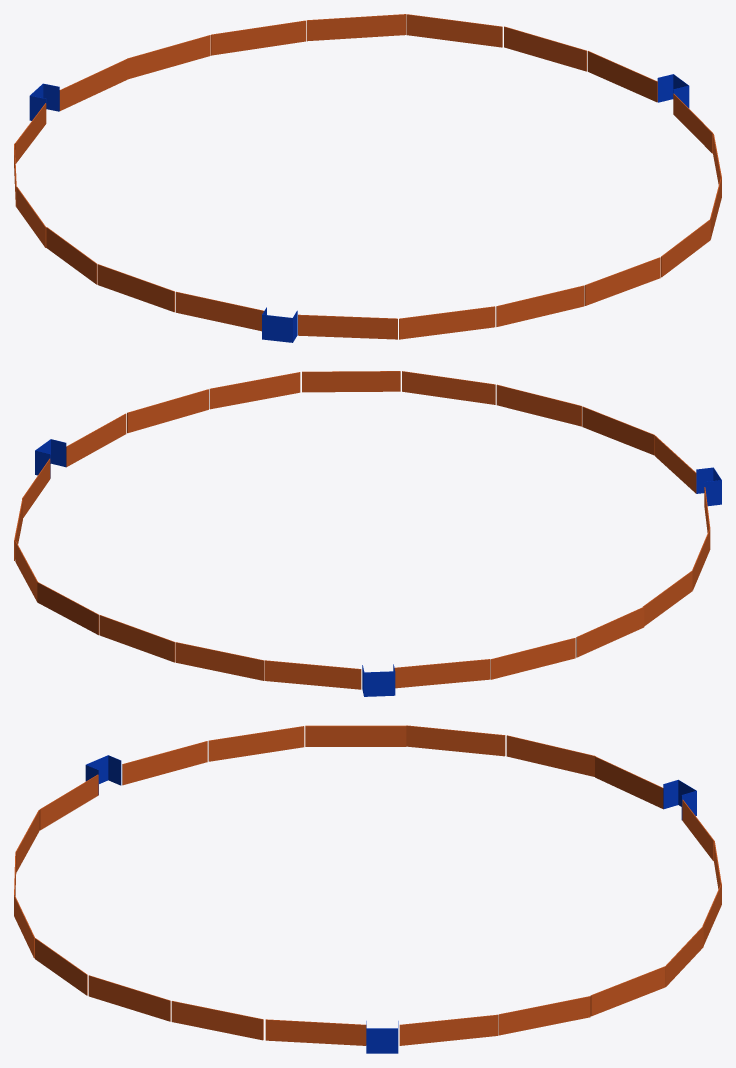
File: sick_robot_day_2012_20m.dae
The picture shows the model from 3 angles, top to bottom: view 1: azimuth 30°, elevation 25°; view 2: azimuth 150°, elevation 25°; view 3: azimuth 270°, elevation 25°; orthographic projection. The views are drawn at different scales.
Visible parts, largest first — view 1: BoundaryBank_002; view 2: BoundaryBank_002; view 3: BoundaryBank_002.
Part boxes in pixels (bbox=[...]): BoundaryBank_002: bbox=[14, 14, 721, 342]; BoundaryBank_002: bbox=[14, 371, 721, 696]; BoundaryBank_002: bbox=[14, 725, 721, 1053].
Size of the model in its own units: 15.8 by 15.38 by 0.6.
